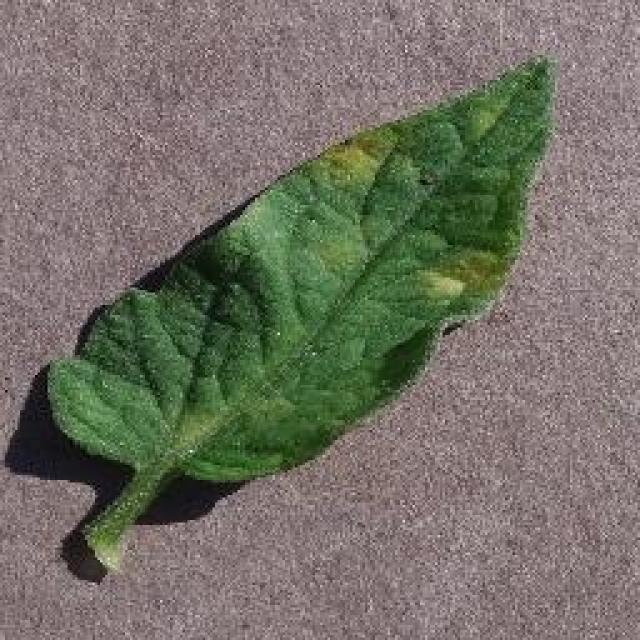Tomato___Leaf_Mold: (48, 60, 548, 568)
